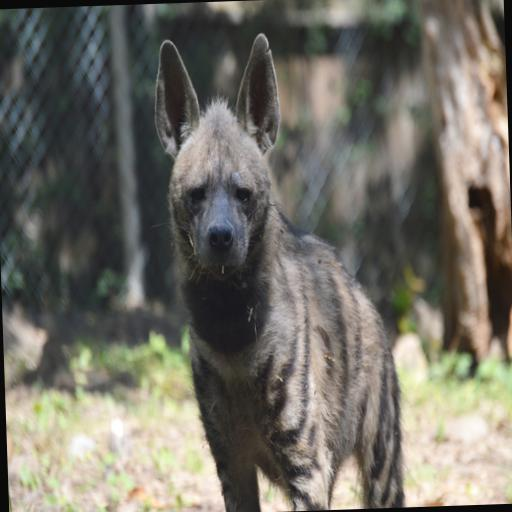hyenas: (114, 16, 427, 512)
